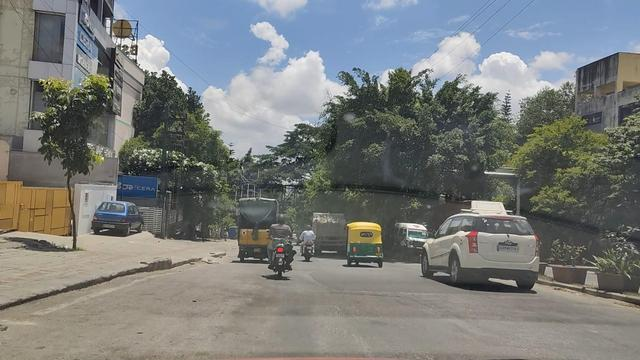HMV: (231, 194, 283, 268), (303, 200, 354, 266)
